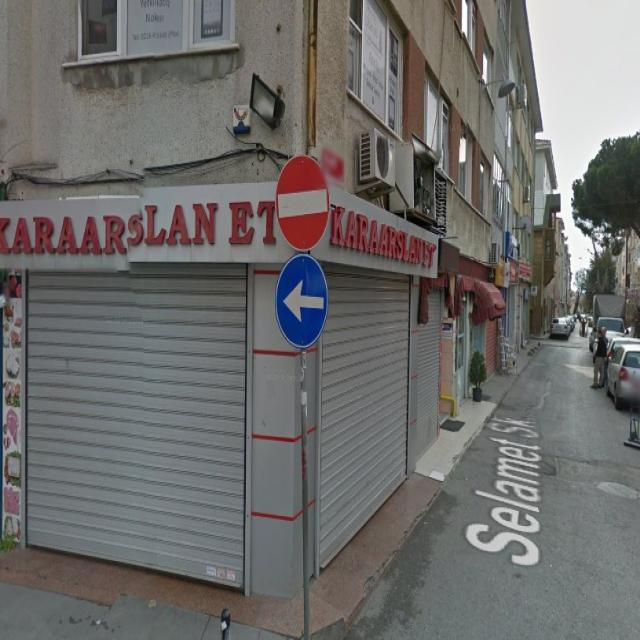girisyok: (276, 157, 330, 248)
sol: (275, 253, 328, 348)
